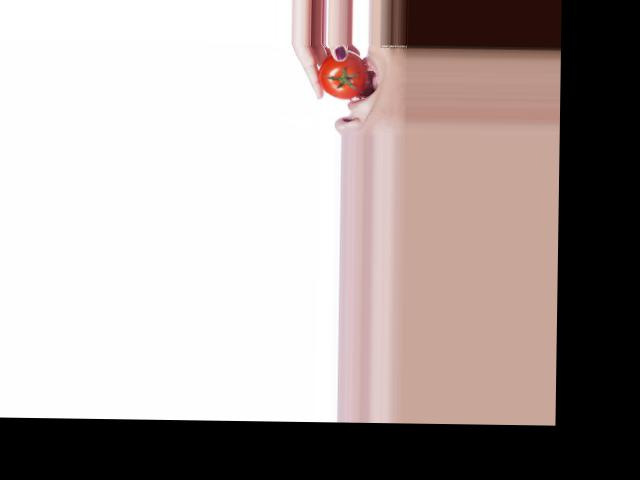tomato: (317, 49, 367, 99)
